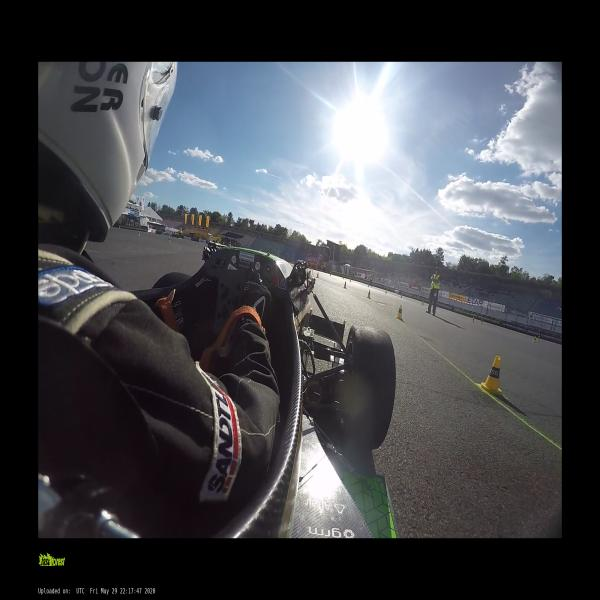yellow_cone: (479, 356, 506, 395), (396, 305, 403, 320), (366, 290, 371, 299), (532, 337, 538, 342), (343, 281, 346, 289), (479, 319, 483, 324), (167, 237, 170, 242), (472, 317, 474, 323), (316, 272, 318, 278), (385, 290, 387, 294), (400, 294, 402, 298), (196, 242, 198, 246), (349, 279, 351, 283), (422, 301, 423, 306)
